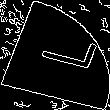L_W: (19, 32, 91, 78)
